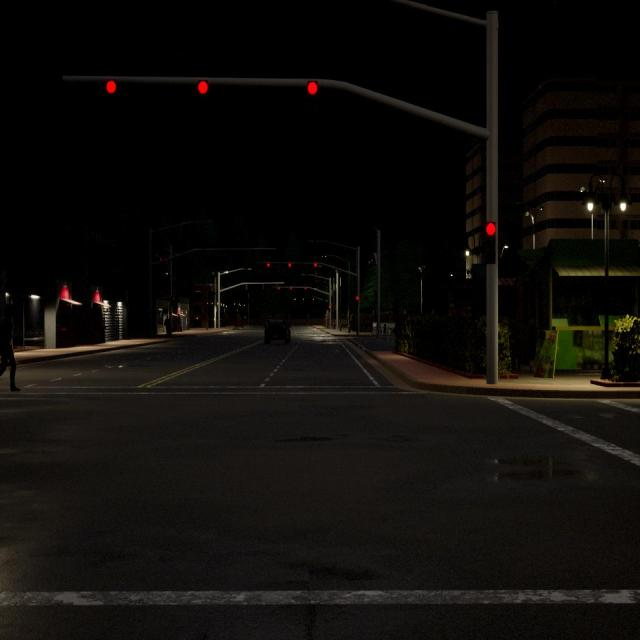Pedestrian: (0, 304, 20, 390), (163, 314, 170, 336)
Vehicle: (264, 319, 290, 345)
traffic_light: (483, 222, 496, 264), (105, 80, 117, 95), (198, 80, 208, 96), (308, 80, 318, 96), (170, 297, 174, 306), (160, 258, 164, 263), (288, 262, 292, 267), (356, 296, 359, 301), (267, 263, 270, 267), (314, 263, 317, 267), (166, 260, 168, 264), (278, 287, 280, 290), (304, 288, 307, 290), (329, 306, 330, 312), (290, 288, 292, 290)
